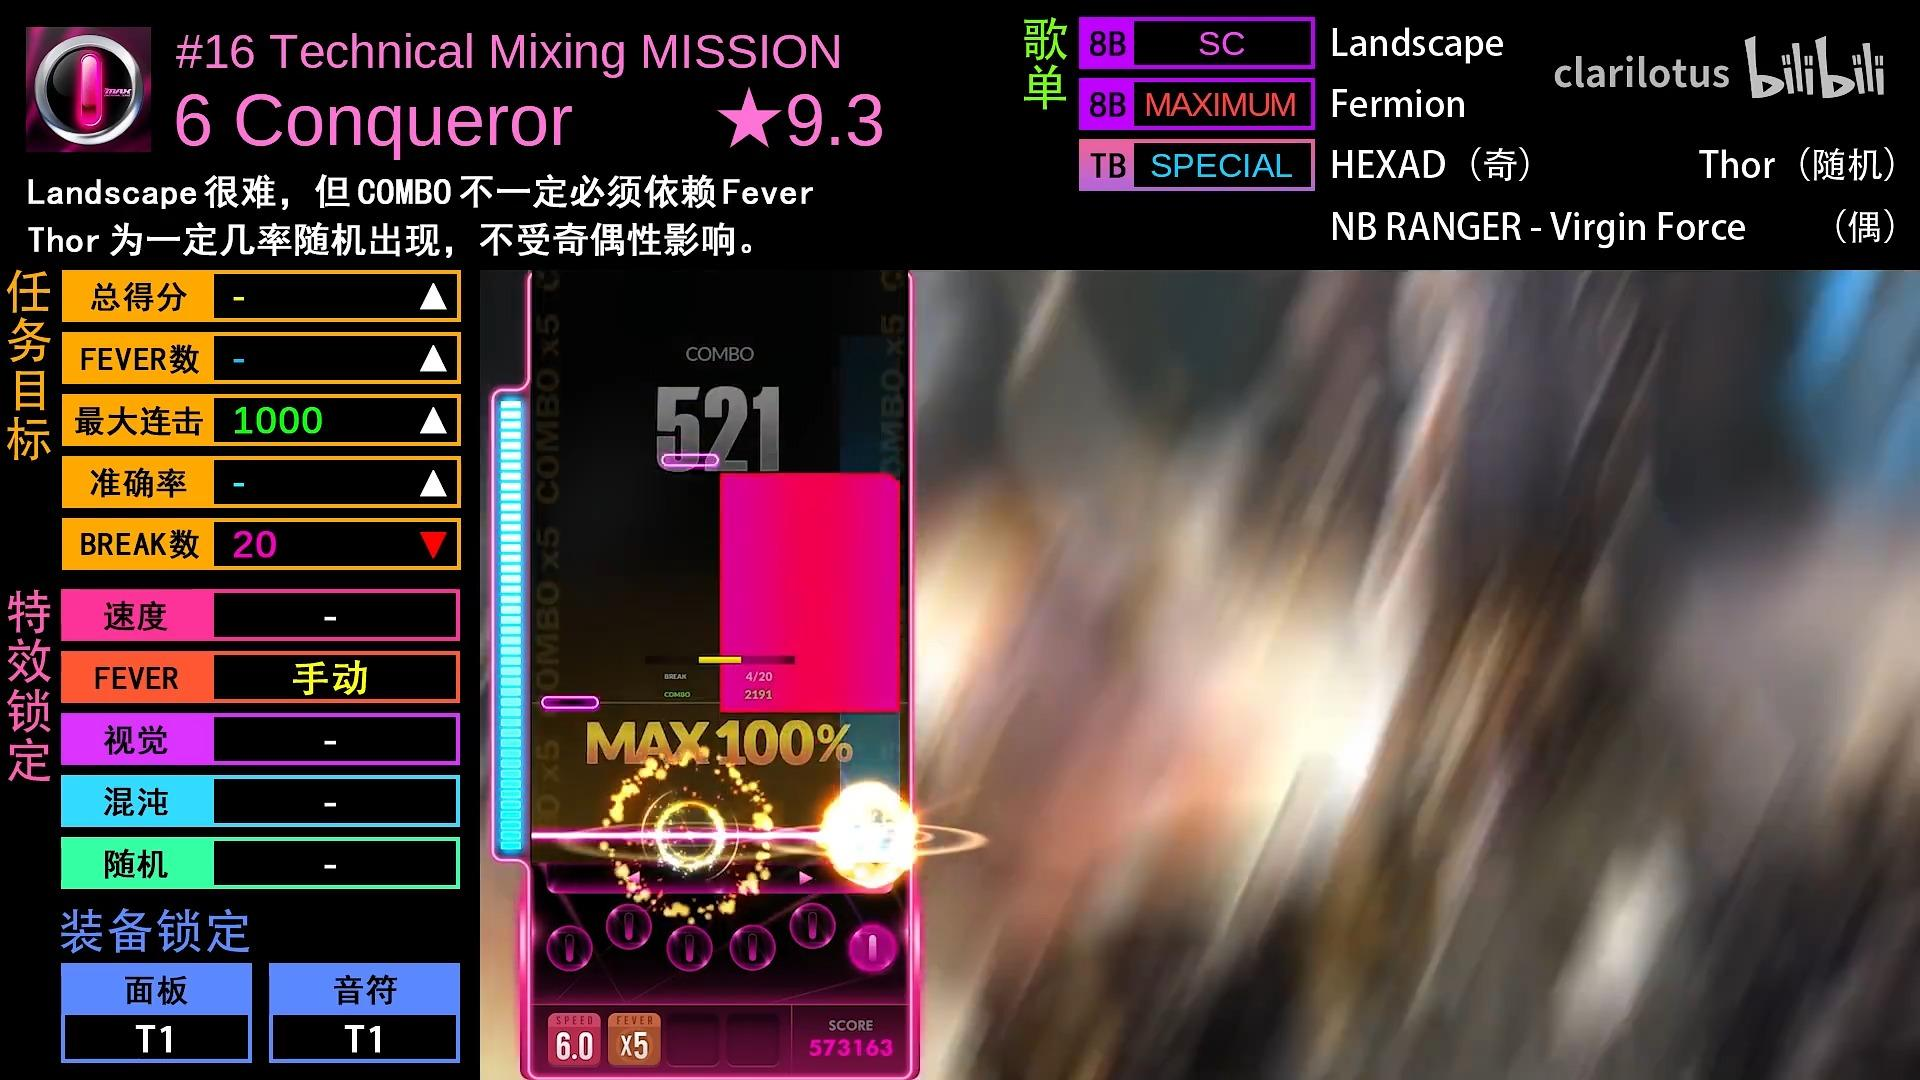note: (542, 694, 599, 713), (661, 452, 720, 468)
xend: (720, 472, 901, 492)
xstart: (720, 694, 901, 712)
